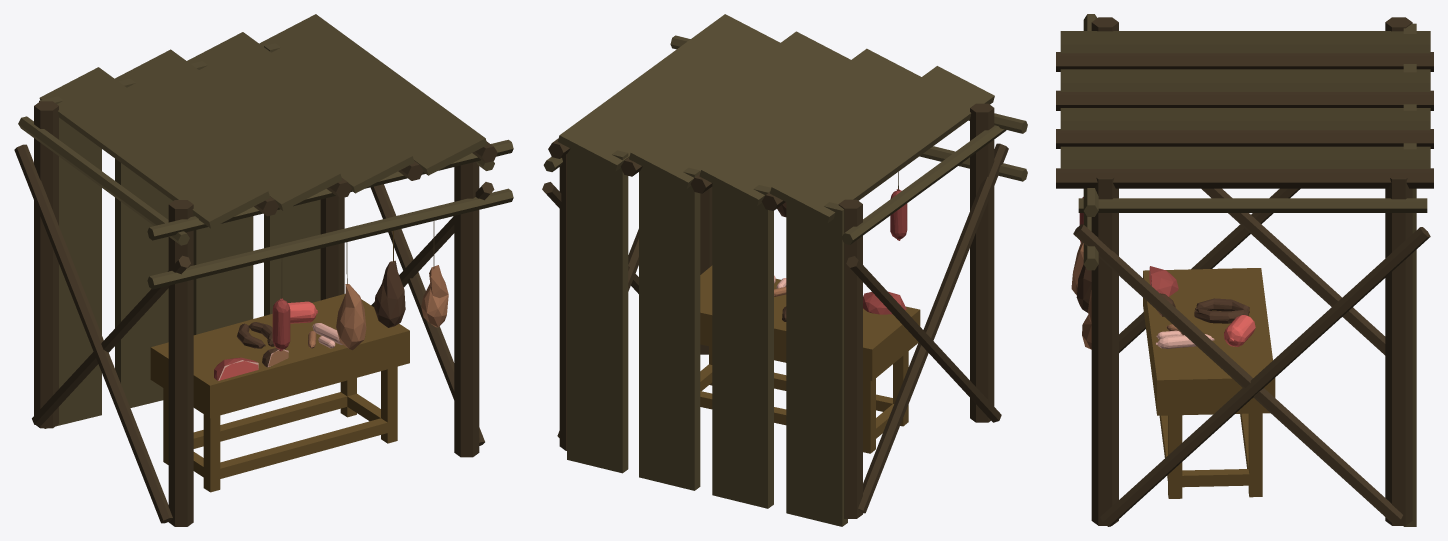
The model's file is butcher.dae.
3 views of the same model, side by side, from view 1: azimuth 30°, elevation 25°; view 2: azimuth 150°, elevation 25°; view 3: azimuth 270°, elevation 25° (orthographic). The views are drawn at different scales.
Parts seen in each view (by area): view 1: butcher, butcherTable; view 2: butcher, butcherTable; view 3: butcher, butcherTable.
Part boxes in pixels (x1,y1,x2,y2): butcher: (14,14,513,526); butcherTable: (150,293,409,492); butcher: (542,14,1027,526); butcherTable: (700,265,920,453); butcher: (1056,14,1433,526); butcherTable: (1143,266,1275,498).
Size of the model in its own units: 7.64 by 6.38 by 6.85.
